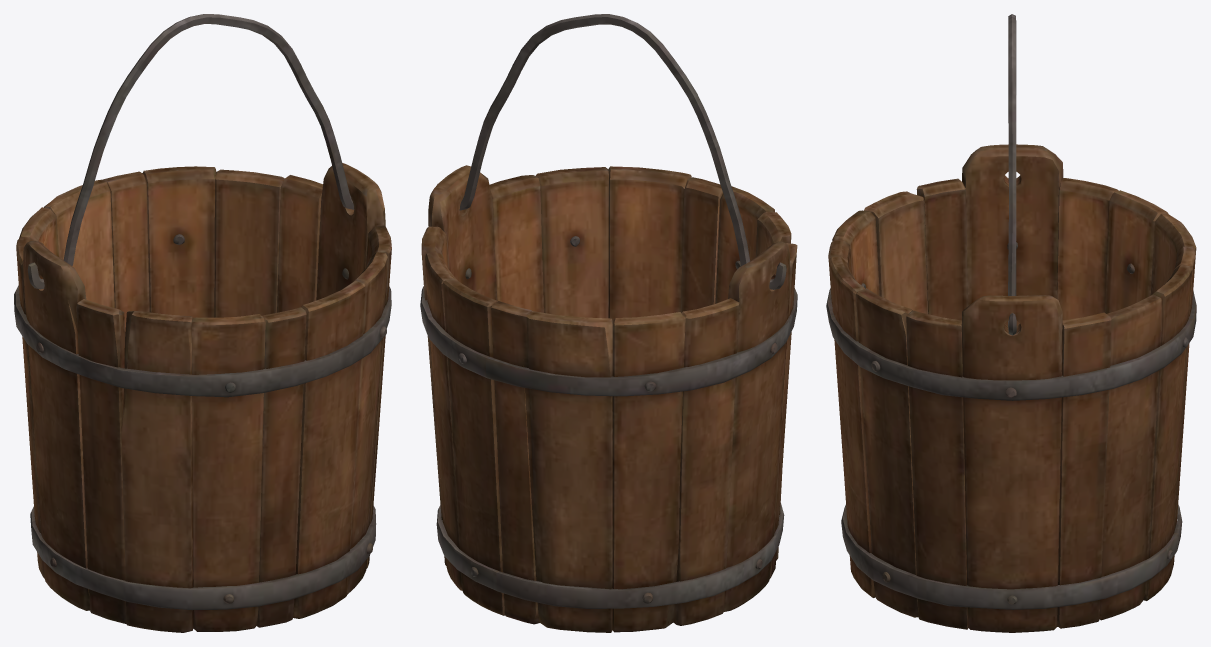
File: wooden_bucket_01.glb
The picture shows the model from 3 angles, left to right: view 1: azimuth 30°, elevation 25°; view 2: azimuth 150°, elevation 25°; view 3: azimuth 270°, elevation 25°; orthographic projection.
Parts seen in each view (by area): view 1: wooden_bucket_01_lod0; view 2: wooden_bucket_01_lod0; view 3: wooden_bucket_01_lod0.
Part boxes in pixels (left/top/right/bottom): wooden_bucket_01_lod0: left=14, top=14, right=391, bottom=632; wooden_bucket_01_lod0: left=420, top=14, right=797, bottom=632; wooden_bucket_01_lod0: left=826, top=14, right=1196, bottom=632.
Size of what is drawn, in the model's own units: 0.367 by 0.5499 by 0.3422.
1 material, 1 textured.
